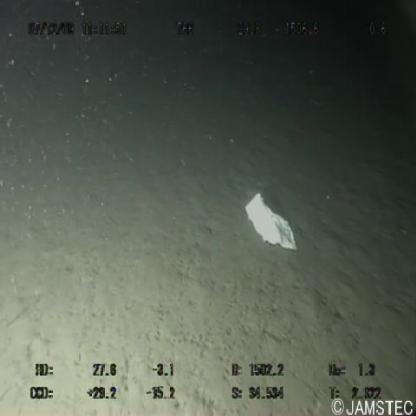Rác: (240, 185, 309, 260)
